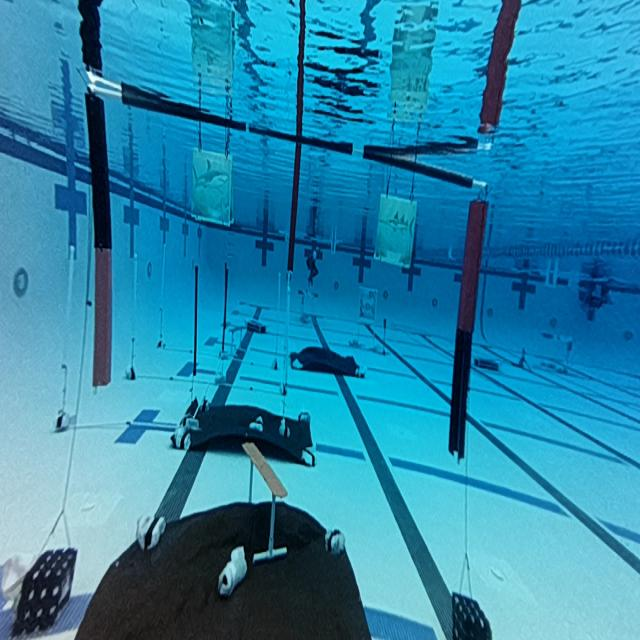pointed_nose: (378, 193, 416, 266)
round_nose: (188, 143, 234, 229)
